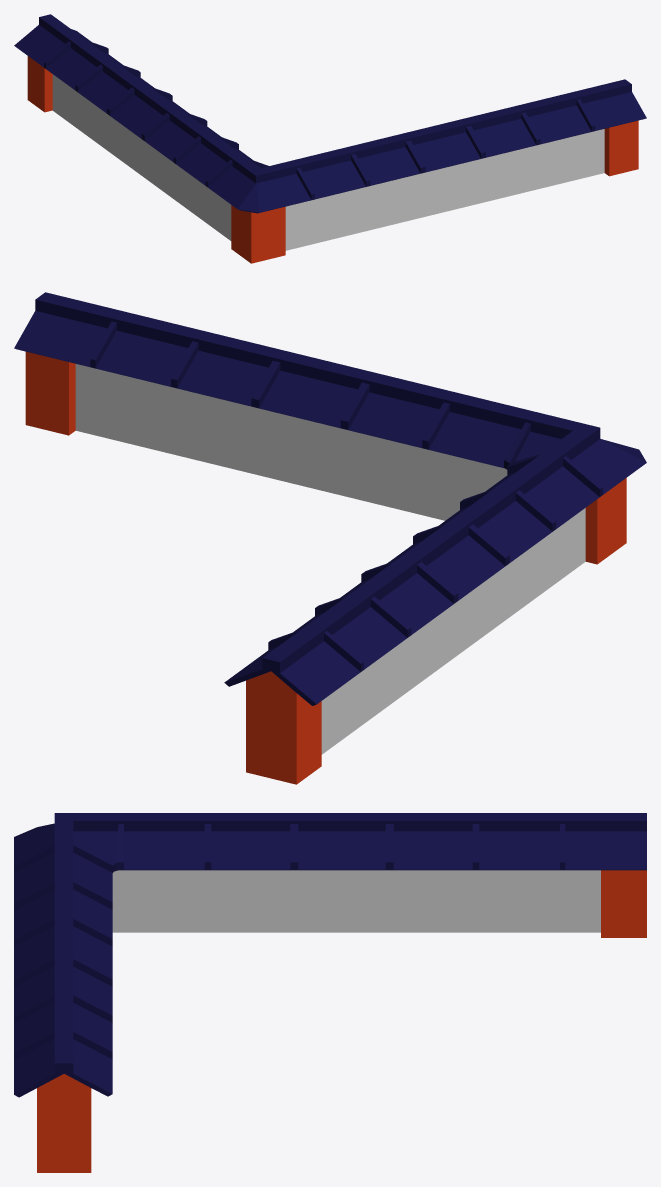
Rendered from Wall-L.fbx.
The picture shows the model from 3 angles, top to bottom: view 1: azimuth 30°, elevation 25°; view 2: azimuth 150°, elevation 25°; view 3: azimuth 270°, elevation 25°; orthographic projection. The views are drawn at different scales.
Visible parts, largest first — view 1: Wall L; view 2: Wall L; view 3: Wall L.
Part boxes in pixels (x1,y1,x2,y2): Wall L: (14, 14, 646, 263); Wall L: (14, 292, 646, 784); Wall L: (14, 813, 646, 1172).
Size of the model in its own units: 1035 by 198 by 1038.
